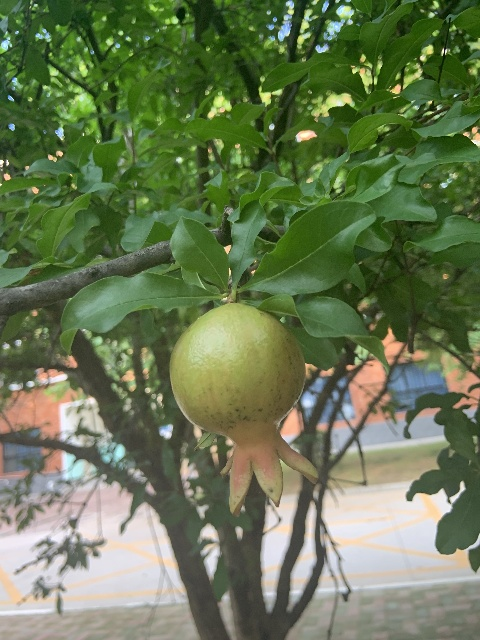mid-growth: (167, 302, 318, 516)
